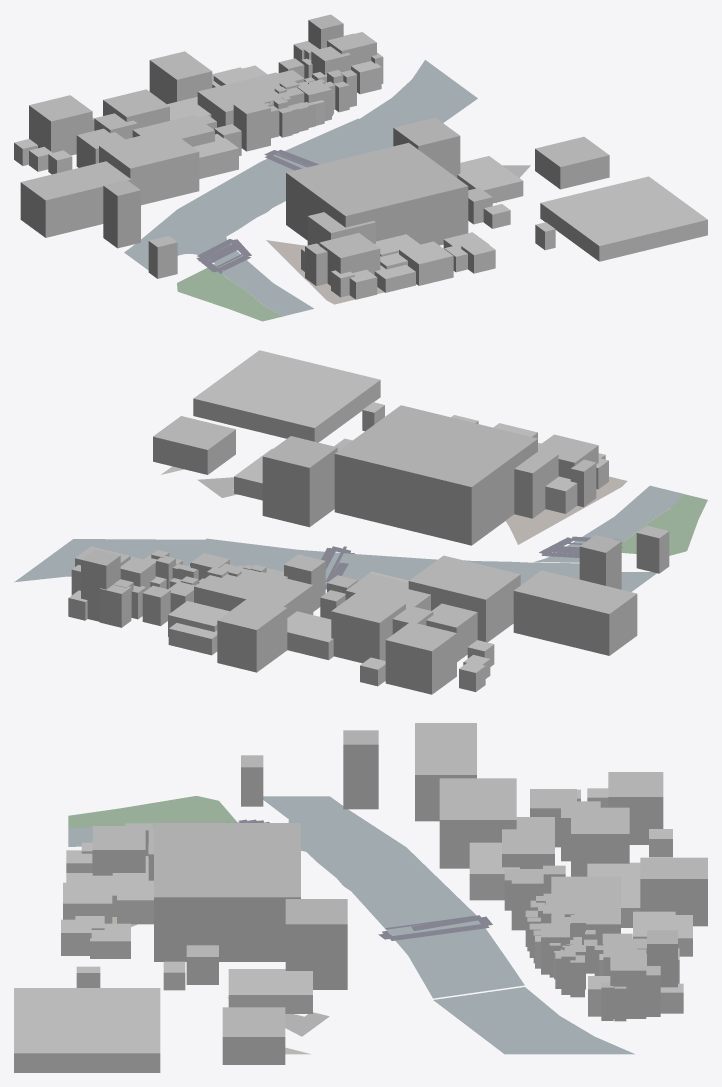
The model's file is 123_97_mid.glb.
3 renders of one model, top to bottom at view 1: azimuth 30°, elevation 25°; view 2: azimuth 150°, elevation 25°; view 3: azimuth 270°, elevation 25°, orthographic. The views are drawn at different scales.
Bounding box in the file's own units: 589 × 61.07 × 572.
